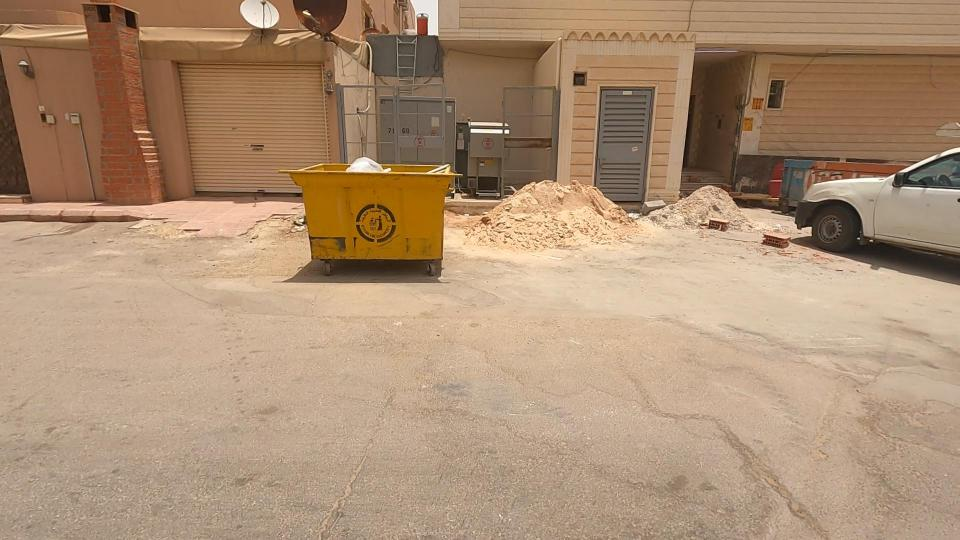GARBAGE: (294, 130, 426, 206)
SAND_ON_ROAD: (449, 137, 643, 285), (640, 167, 791, 256)
